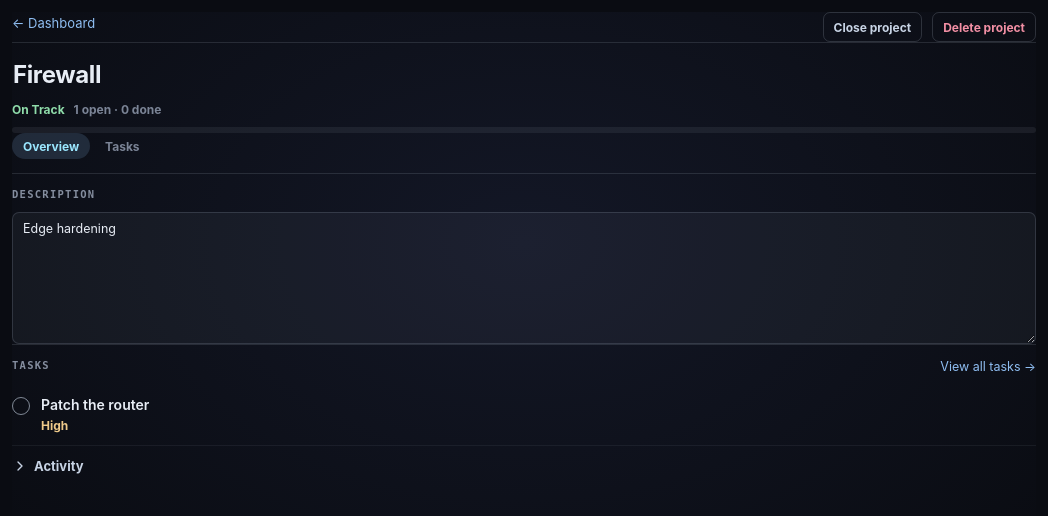
Test: ProjectDetailPage › does not save when the name is cleared to blank
The image size is (1048, 516).
Clear the field named "Project name" at (524, 75), box [12,57,1036,93]
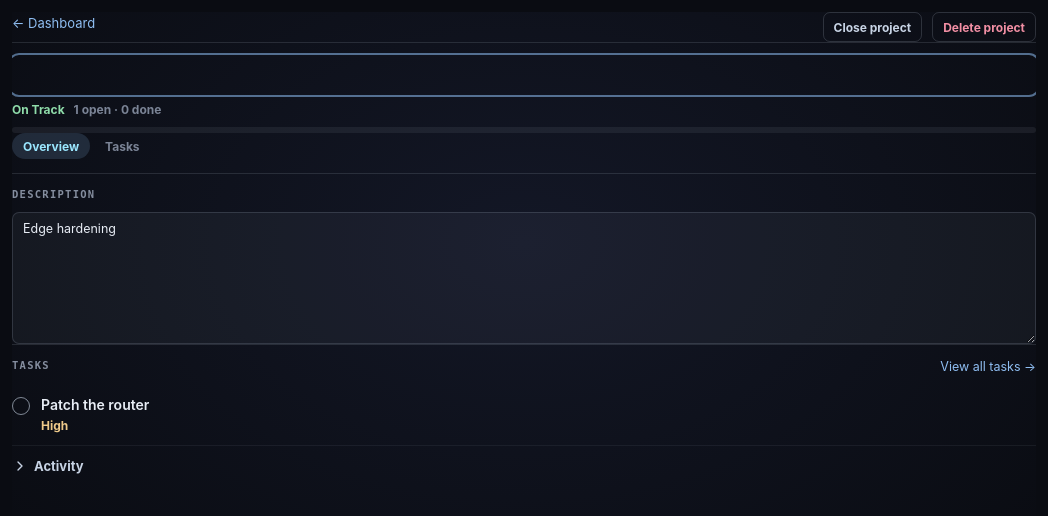
Press Tab
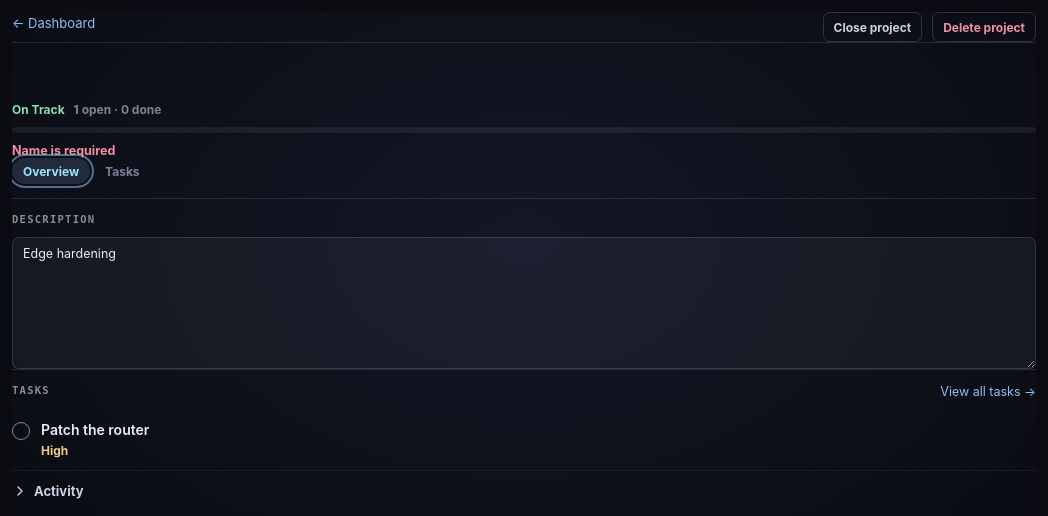
Expected: the text "Name is required" is shown, [12,143,115,158]
